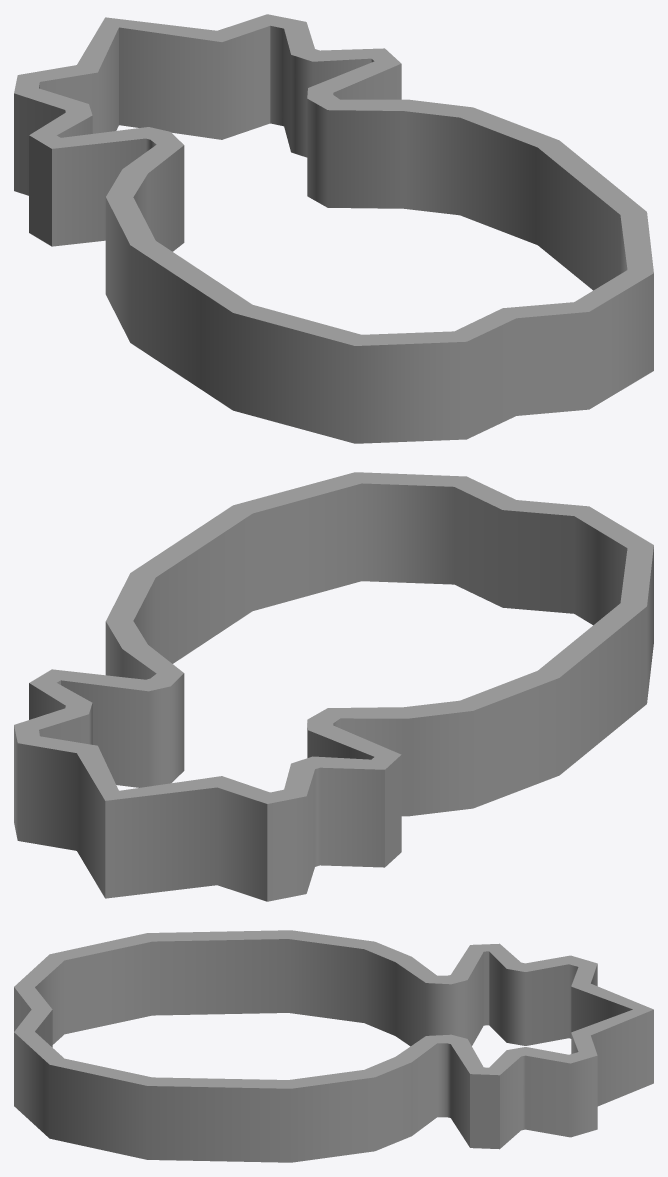
File: BiscuitCutter_Pineapple_01.fbx
3 renders of one model, top to bottom at view 1: azimuth 30°, elevation 25°; view 2: azimuth 150°, elevation 25°; view 3: azimuth 270°, elevation 25°, orthographic. The views are drawn at different scales.
Parts seen in each view (by area): view 1: BiscuitCutter_Pineapple_01; view 2: BiscuitCutter_Pineapple_01; view 3: BiscuitCutter_Pineapple_01.
Boxes of the visible parts, x1,y1,x2,y2 form: BiscuitCutter_Pineapple_01: (14, 14, 653, 443); BiscuitCutter_Pineapple_01: (14, 472, 653, 901); BiscuitCutter_Pineapple_01: (14, 930, 653, 1162).
Bounding box in the file's own units: 0.0586 × 0.0128 × 0.1001.
